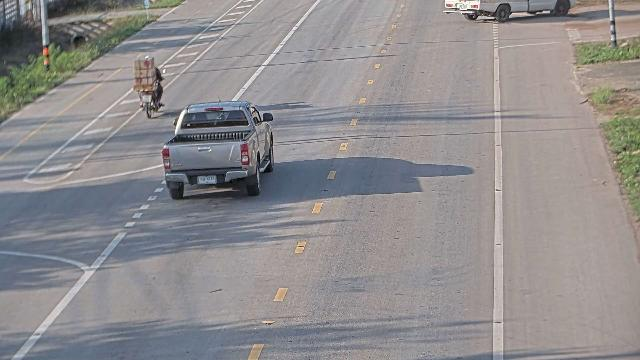pickup-truck: (161, 99, 275, 200), (442, 0, 576, 22)
